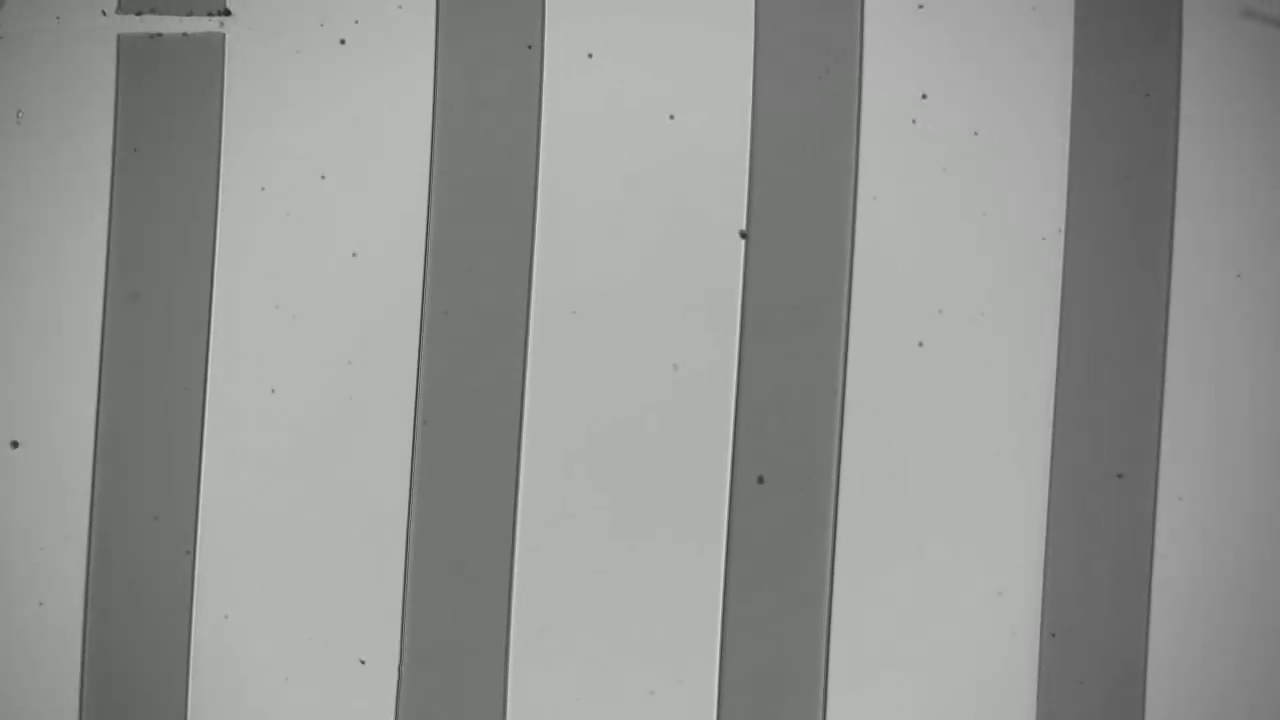Short_circuit: (91, 6, 257, 45)
